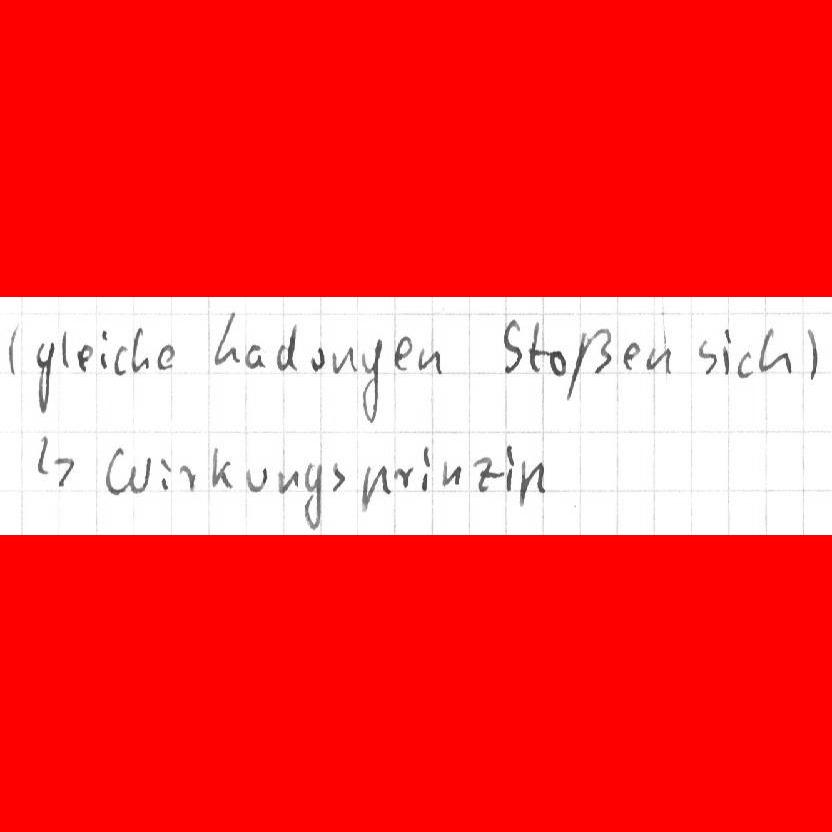Char: (563, 325, 609, 401), (33, 430, 78, 491), (103, 446, 154, 496), (356, 334, 381, 424), (211, 308, 242, 368), (756, 326, 792, 376), (359, 462, 393, 513), (34, 337, 55, 415), (301, 460, 323, 532), (516, 458, 546, 509), (500, 315, 524, 376), (274, 323, 300, 373), (471, 455, 504, 493), (210, 443, 234, 492), (526, 317, 546, 374), (802, 324, 821, 382), (130, 325, 151, 374), (6, 318, 22, 381), (644, 346, 674, 377), (329, 344, 356, 376), (696, 335, 717, 376), (415, 345, 443, 374), (177, 462, 202, 494), (276, 467, 302, 496), (244, 462, 268, 493), (242, 341, 268, 369), (392, 334, 412, 369), (441, 458, 464, 488), (155, 341, 177, 372), (547, 347, 568, 377), (75, 342, 94, 375), (98, 325, 111, 373), (503, 442, 515, 494), (112, 342, 129, 378), (328, 460, 346, 494), (392, 464, 415, 490), (418, 444, 430, 493), (621, 340, 641, 369), (158, 455, 172, 495), (736, 349, 755, 378), (59, 328, 72, 370), (309, 344, 326, 376), (722, 327, 732, 375)
